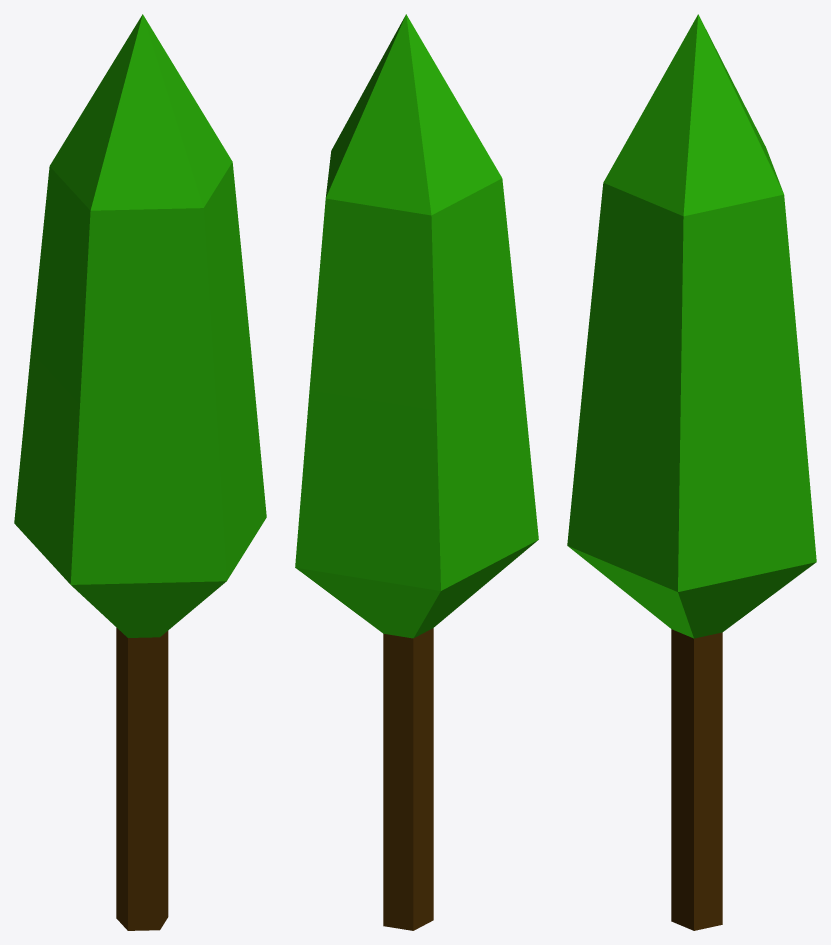
Rendered from Tree_4.fbx.
3 renders of one model, left to right at view 1: azimuth 30°, elevation 25°; view 2: azimuth 150°, elevation 25°; view 3: azimuth 270°, elevation 25°, orthographic.
Visible parts, largest first — view 1: Tree_4; view 2: Tree_4; view 3: Tree_4.
Boxes of the visible parts, x1=… form: Tree_4: x1=14, y1=14, x2=266, y2=930; Tree_4: x1=295, y1=14, x2=538, y2=930; Tree_4: x1=567, y1=14, x2=816, y2=930.
Bounding box in the file's own units: 169 × 676 × 169.
